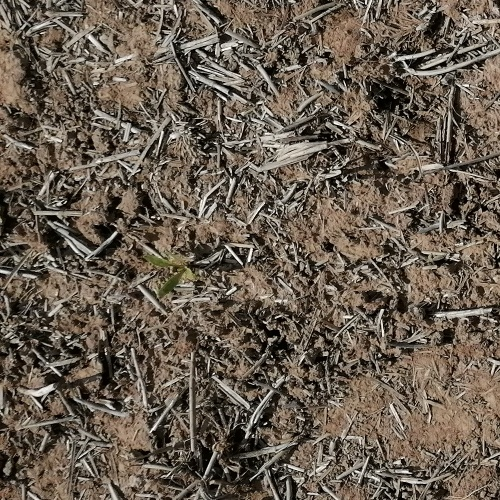beet: (142, 252, 199, 304)
